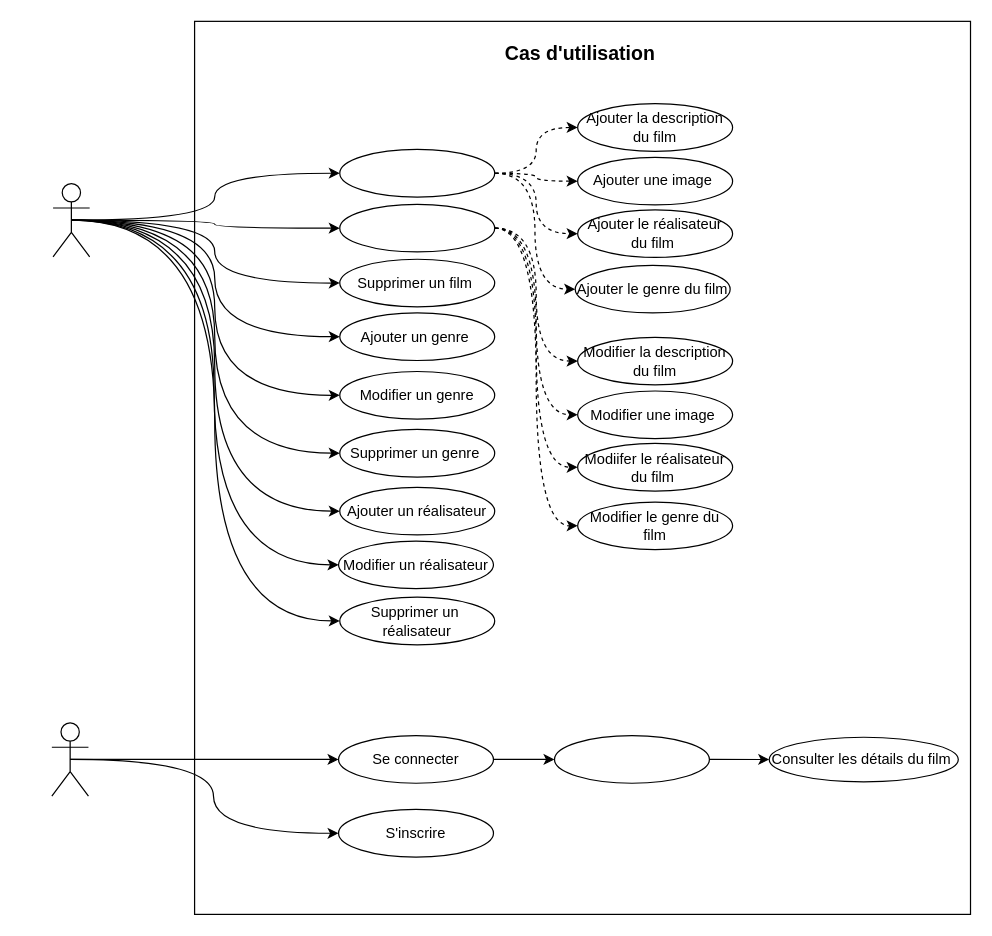
Some shapes in this 992 by 936 pixel diagram are drawn without their labels. Here are the shapes that lost their labels. From the top down, the centre of each, then its label:
point (417, 172): Ajouter un film
point (71, 219): Administrateurs
point (417, 227): Modifier un film
point (69, 759): Utilisateurs
point (631, 758): Consulter la liste de films
